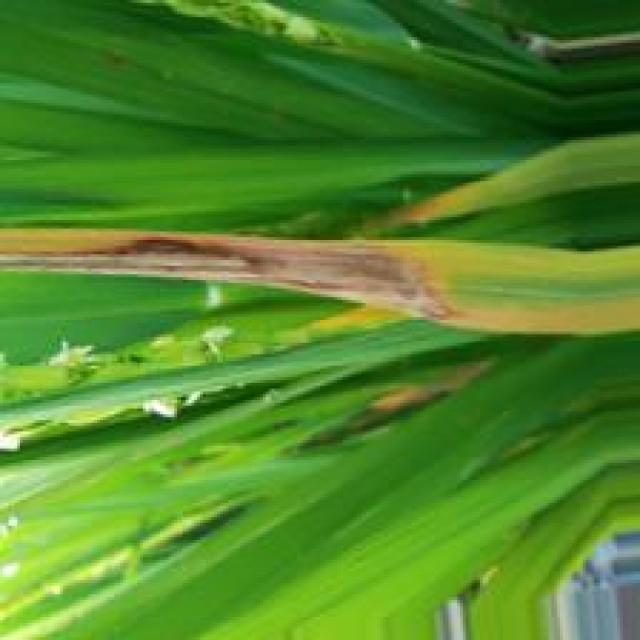Leaf_Scald: (3, 234, 463, 322)
